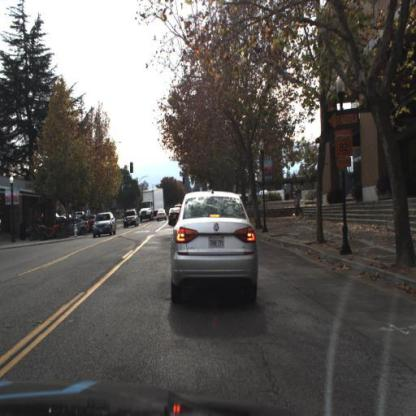car: (169, 191, 257, 301), (94, 211, 118, 240), (93, 212, 117, 237), (68, 219, 89, 235), (168, 206, 182, 227), (124, 210, 140, 228), (157, 210, 167, 223)
pedestrian: (296, 195, 304, 217)
trafficLight-Red: (183, 174, 188, 186)
